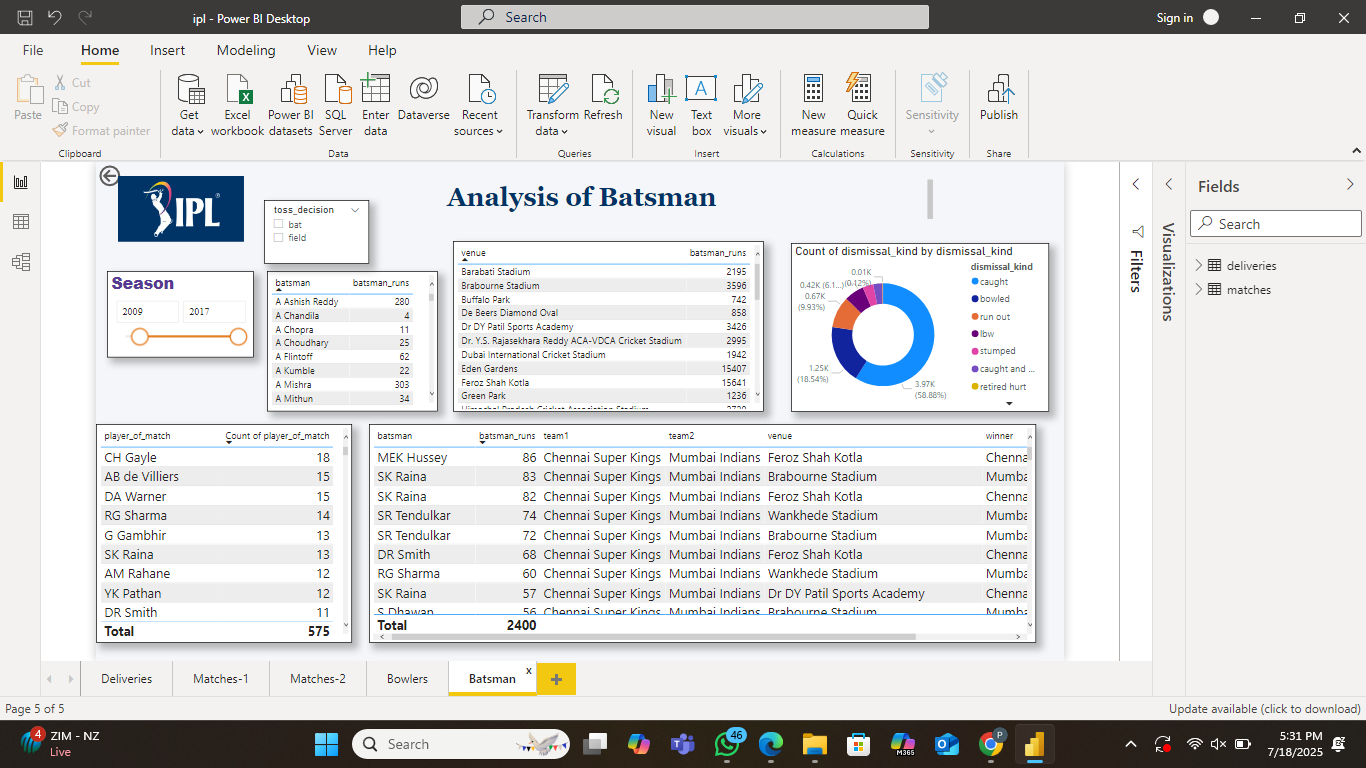

This screenshot's page, from the dashboard's own definition file:
{"tool":"powerbi","page":{"name":"Batsman","canvas":[1398,721],"ordinal":4},"visuals":[{"type":"actionButton","box":[0,0,100,40],"z":0},{"type":"image","box":[31.6,19.5,181.9,94.7],"z":1000},{"type":"slicer","title":"Season","fields":{"Values":["matches.season"]},"box":[16.5,157.8,212,124.8],"z":2000},{"type":"donutChart","fields":{"Category":["deliveries.dismissal_kind"],"Y":["CountNonNull(deliveries.dismissal_kind)"]},"box":[1004.2,117.3,372.8,243.5],"z":3000},{"type":"tableEx","fields":{"Values":["matches.player_of_match","CountNonNull(matches.player_of_match)"]},"box":[0,378.8,369.8,315.7],"z":4000},{"type":"tableEx","fields":{"Values":["deliveries.batsman","Sum(deliveries.batsman_runs)","matches.team1","matches.team2","matches.venue","matches.winner","matches.season"]},"box":[393.8,378.8,963.6,315.7],"z":5000},{"type":"textbox","box":[228.5,19.5,986.1,70.7],"z":6000},{"type":"tableEx","fields":{"Values":["deliveries.batsman","Sum(deliveries.batsman_runs)"]},"box":[246.5,157.8,246.5,202.9],"z":7000},{"type":"tableEx","fields":{"Values":["matches.venue","Sum(deliveries.batsman_runs)"]},"box":[515.6,114.2,449.5,246.5],"z":8000},{"type":"slicer","fields":{"Values":["matches.toss_decision"]},"box":[242,55.6,151.8,91.7],"z":8001}]}

Visuals, with their boxes on the page's 1398x721 design canvas (x1, y1, x2, y2). These are canvas units, not pixel positions in the 1366x768 screenshot, which may show the page scaled, cropped or inside an application window:
actionButton: locate(0, 0, 100, 40)
image: locate(32, 20, 214, 114)
"Season" slicer: locate(16, 158, 228, 283)
donutChart - deliveries.dismissal_kind x CountNonNull(deliveries.dismissal_kind): locate(1004, 117, 1377, 361)
tableEx - matches.player_of_match x CountNonNull(matches.player_of_match): locate(0, 379, 370, 694)
tableEx - deliveries.batsman x Sum(deliveries.batsman_runs): locate(394, 379, 1357, 694)
textbox: locate(228, 20, 1215, 90)
tableEx - deliveries.batsman x Sum(deliveries.batsman_runs): locate(246, 158, 493, 361)
tableEx - matches.venue x Sum(deliveries.batsman_runs): locate(516, 114, 965, 361)
slicer - matches.toss_decision: locate(242, 56, 394, 147)
